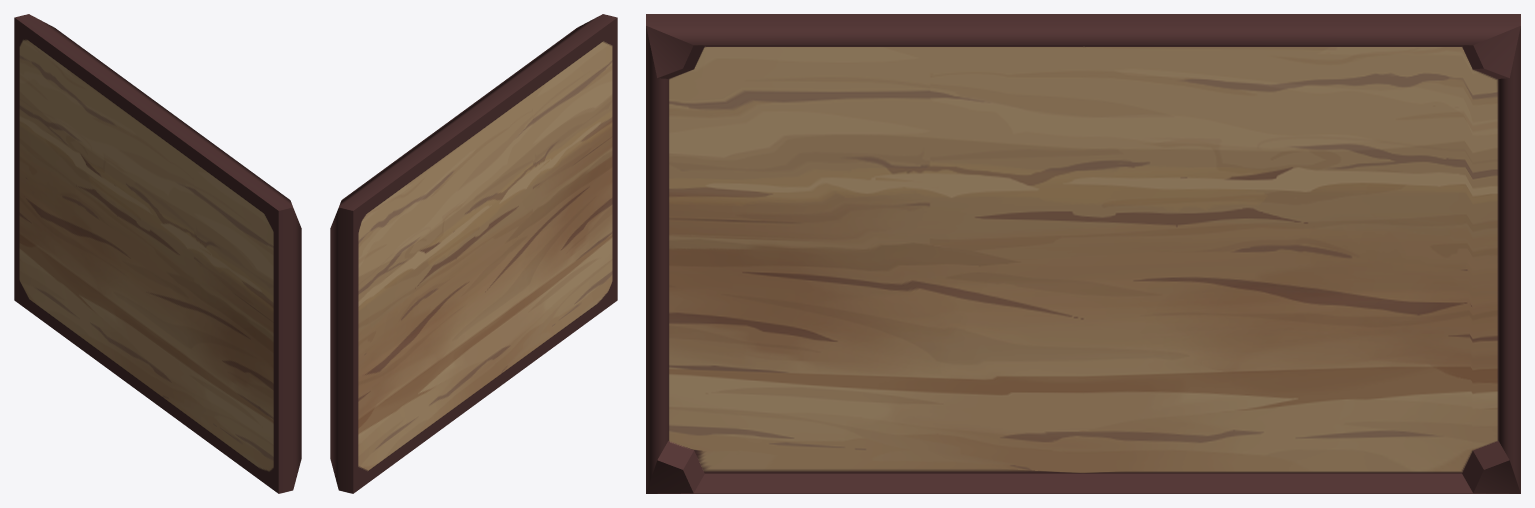
File: BiddingSign.fbx
3 views of the same model, side by side, from view 1: azimuth 30°, elevation 25°; view 2: azimuth 150°, elevation 25°; view 3: azimuth 270°, elevation 25° (orthographic). The views are drawn at different scales.
Parts seen in each view (by area): view 1: BiddingSignV2_1; view 2: BiddingSignV2_1; view 3: BiddingSignV2_1.
Part boxes in pixels (left/top/right/bottom): BiddingSignV2_1: left=14, top=14, right=301, bottom=493; BiddingSignV2_1: left=330, top=14, right=617, bottom=493; BiddingSignV2_1: left=646, top=14, right=1520, bottom=493.
Bounding box in the file's own units: 5.59 × 57.78 × 97.82.
